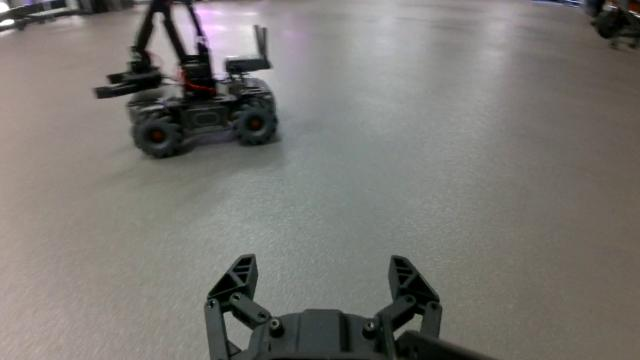robot: (90, 0, 278, 159)
